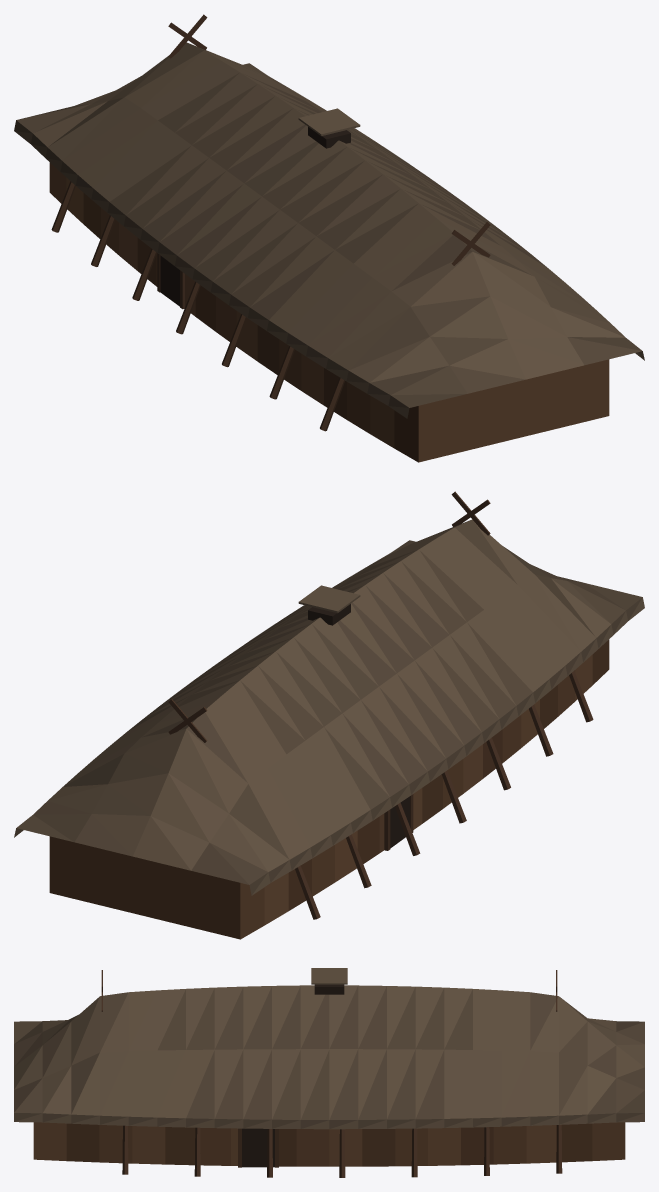
Rendered from b2_langhus_lille.glb.
3 views of the same model, one above another, from view 1: azimuth 30°, elevation 25°; view 2: azimuth 150°, elevation 25°; view 3: azimuth 270°, elevation 25° (orthographic). The views are drawn at different scales.
Parts seen in each view (by area): view 1: B2_langhus_lille; view 2: B2_langhus_lille; view 3: B2_langhus_lille.
Part boxes in pixels (x1,y1,x2,y2): B2_langhus_lille: [14, 14, 644, 462]; B2_langhus_lille: [14, 491, 644, 939]; B2_langhus_lille: [14, 968, 644, 1177].
Bounding box in the file's own units: 8.17 × 4.96 × 19.2.
